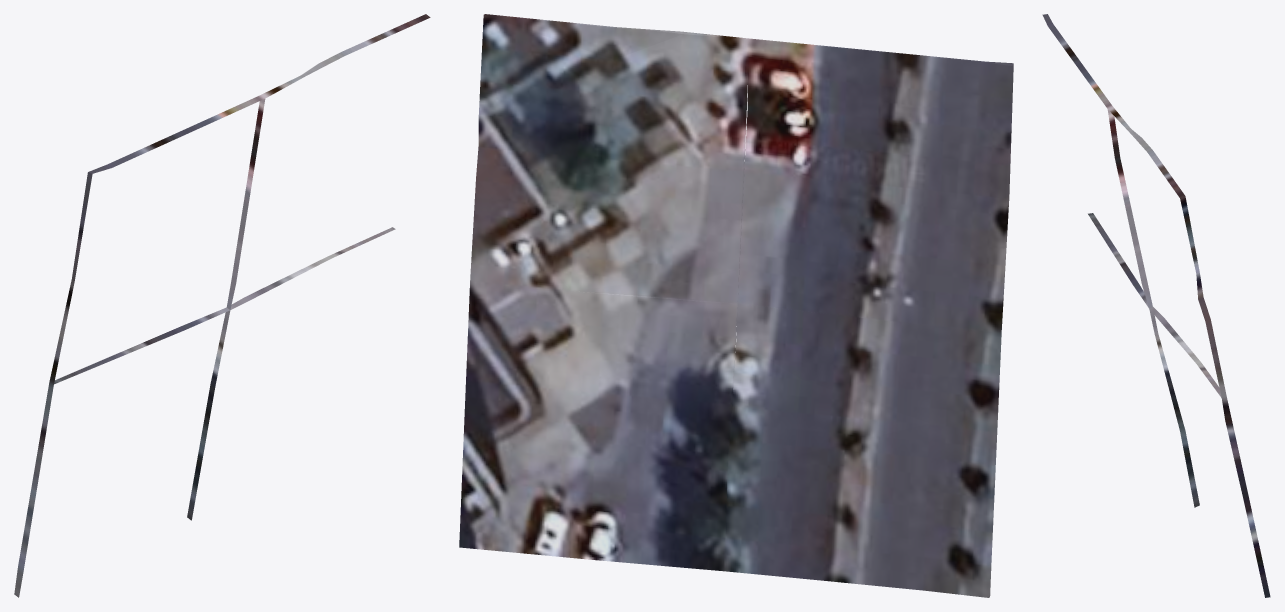
3 renders of one model, left to right at view 1: azimuth 30°, elevation 25°; view 2: azimuth 150°, elevation 25°; view 3: azimuth 270°, elevation 25°, orthographic. The views are drawn at different scales.
Size of the model in its own units: 38.11 by 37.51 by 18.76.
1 material, 1 textured.
